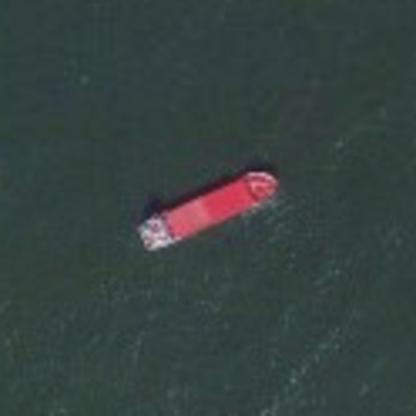ship: (131, 162, 288, 258)
